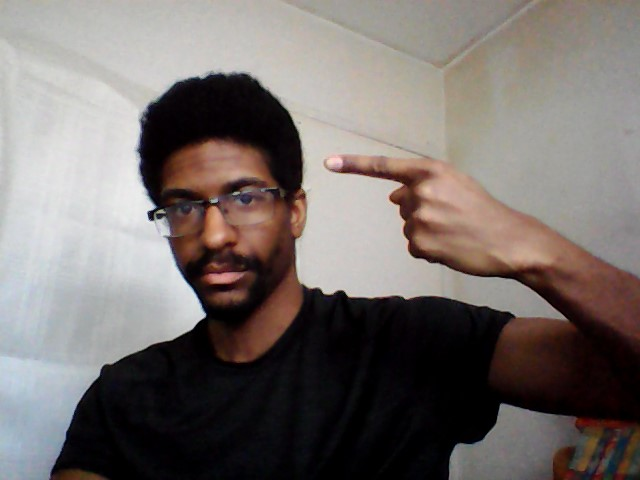g: (317, 148, 546, 283)
